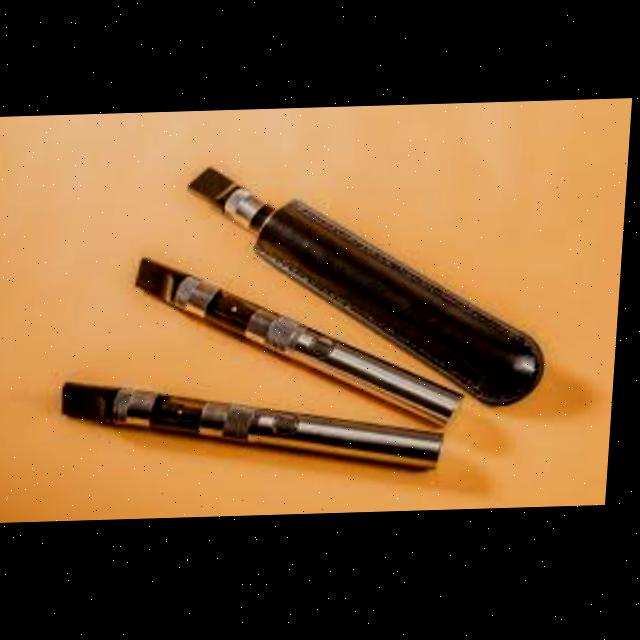vape: (177, 157, 564, 419), (128, 249, 479, 440), (62, 371, 455, 482)
